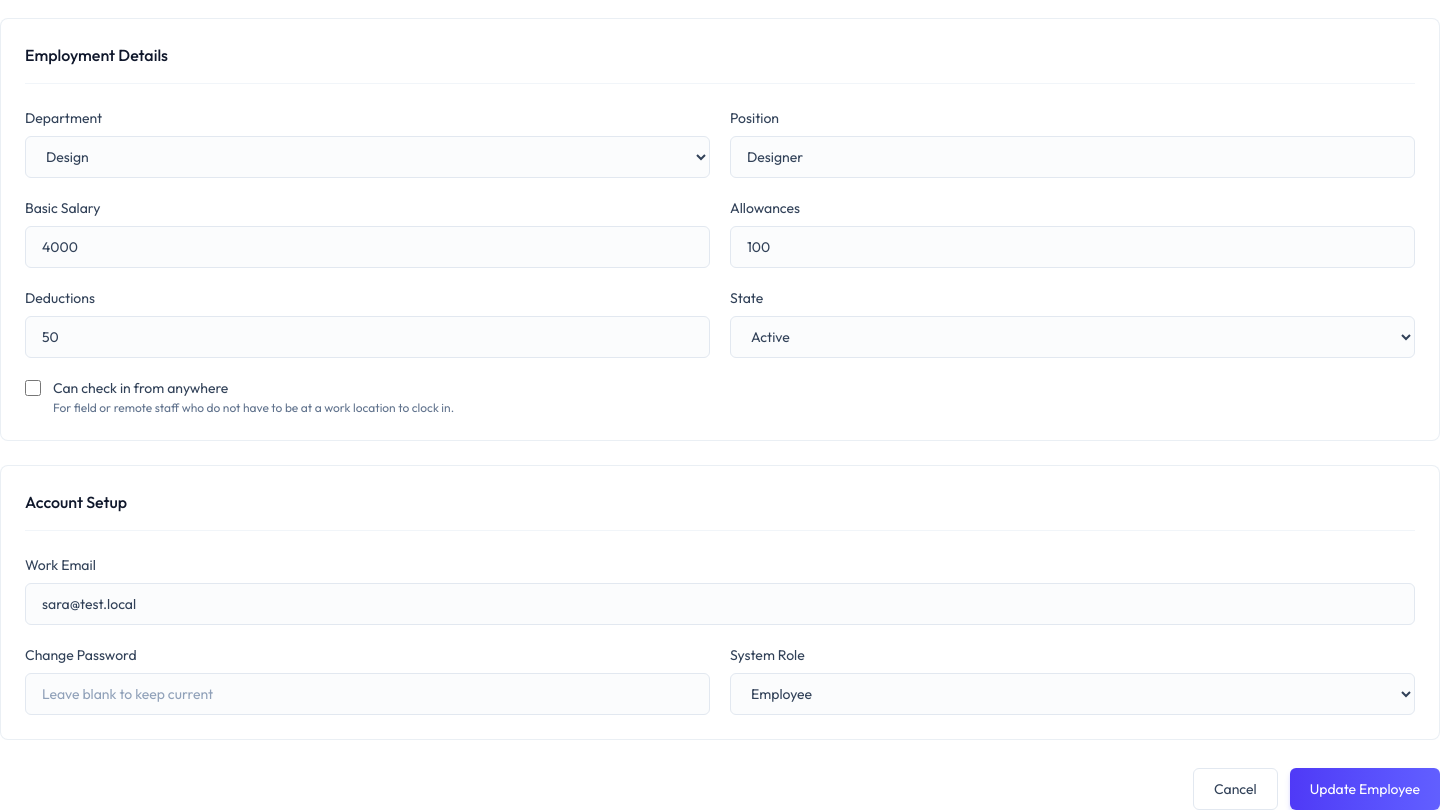
Test case: EmployeeForm › rejects a new password that is too short when editing
(page scrolled)
Type "short" into the password field labelled "Change Password" at x=368, y=694, box top-left (25, 673), bottom-right (710, 715)
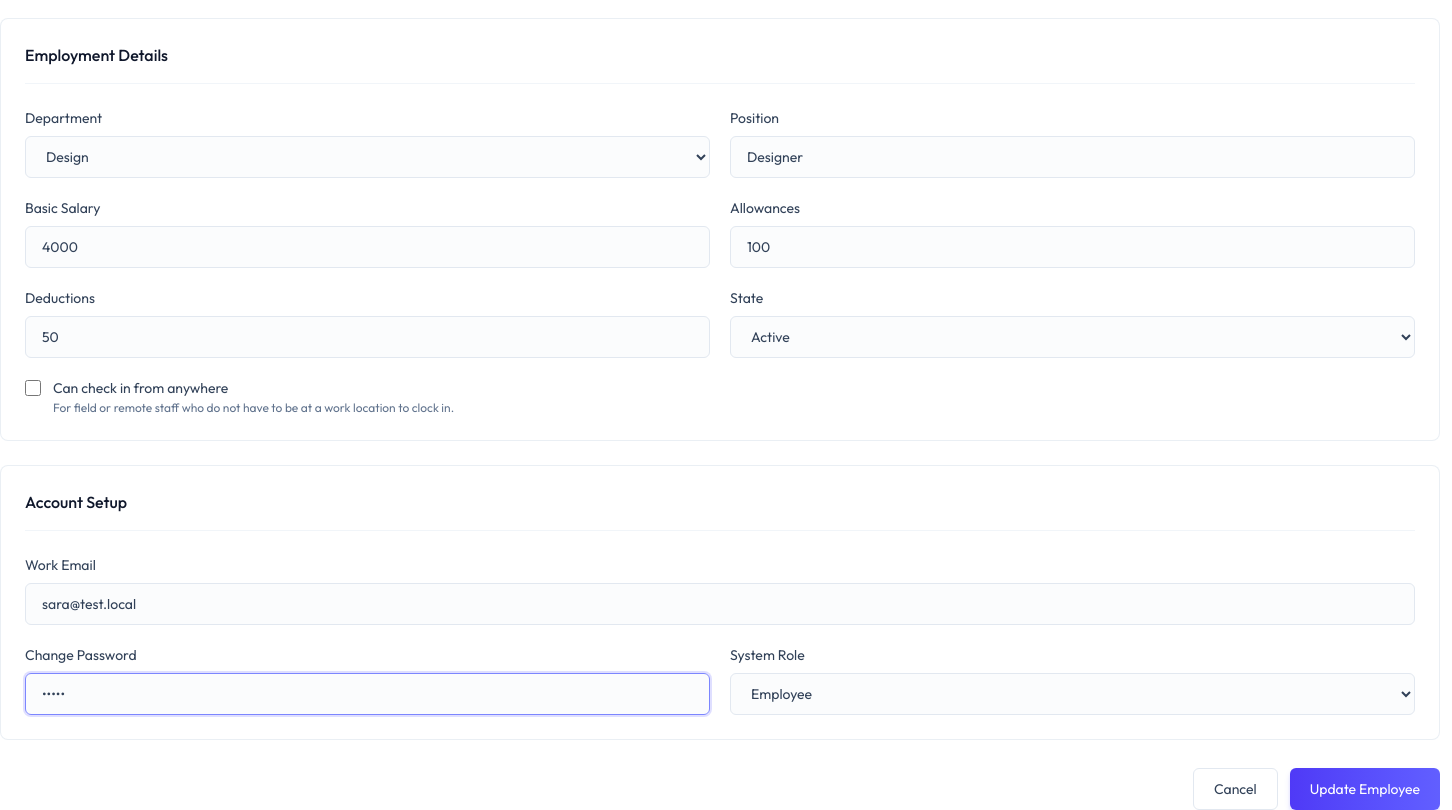
Click the button "Update Employee" at x=1365, y=789, box top-left (1290, 768), bottom-right (1440, 809)
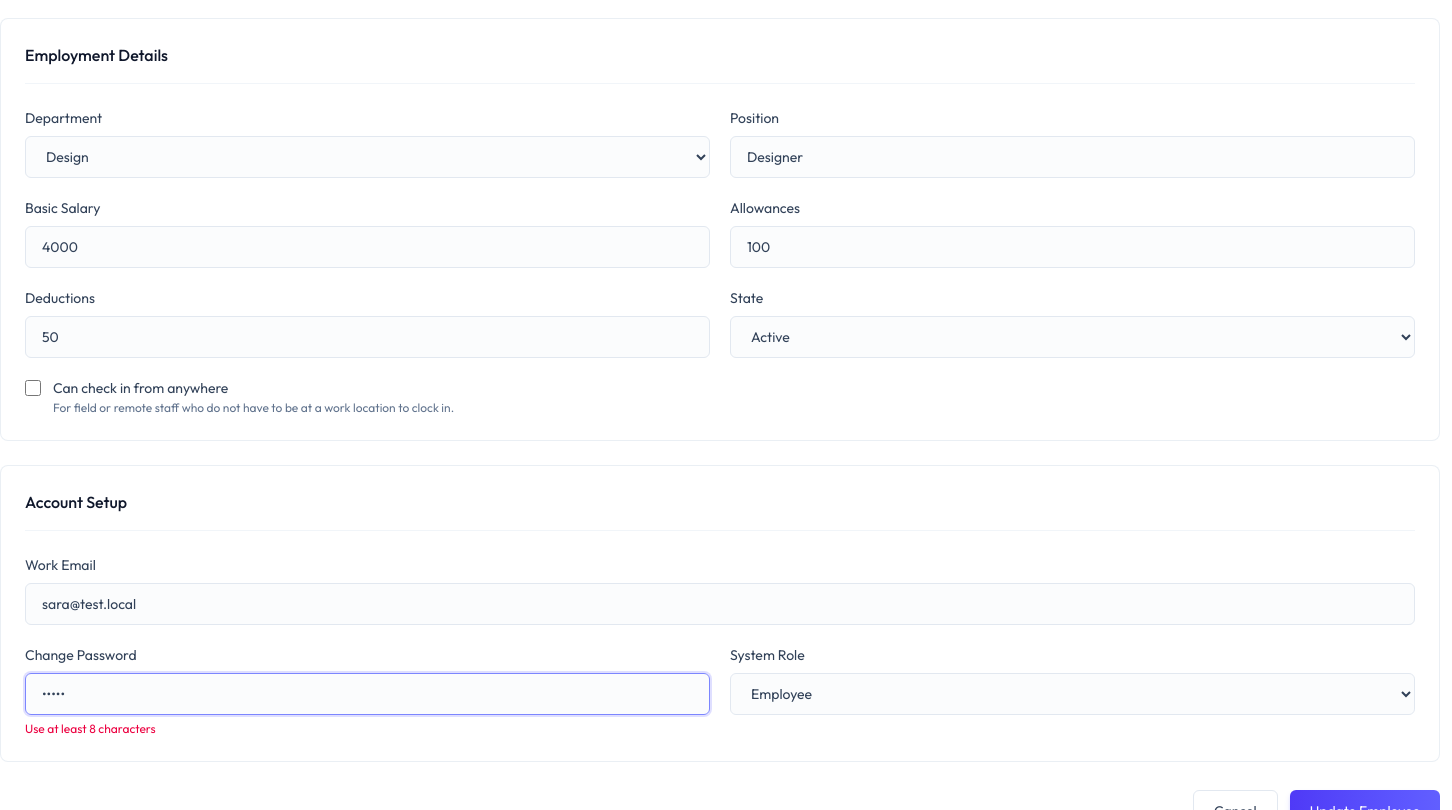
Now the text "Use at least 8 characters" is shown, box top-left (25, 721), bottom-right (156, 736)
